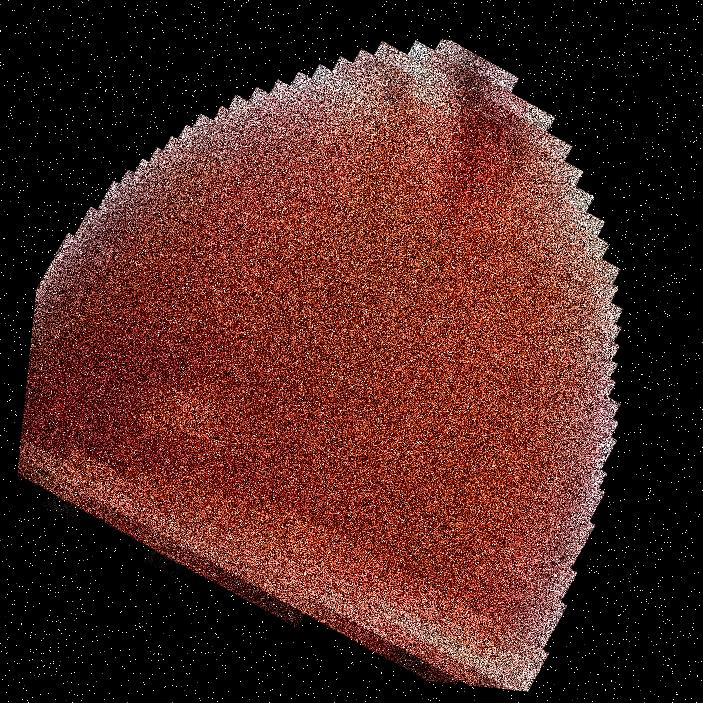Capacete: (113, 0, 570, 702)
